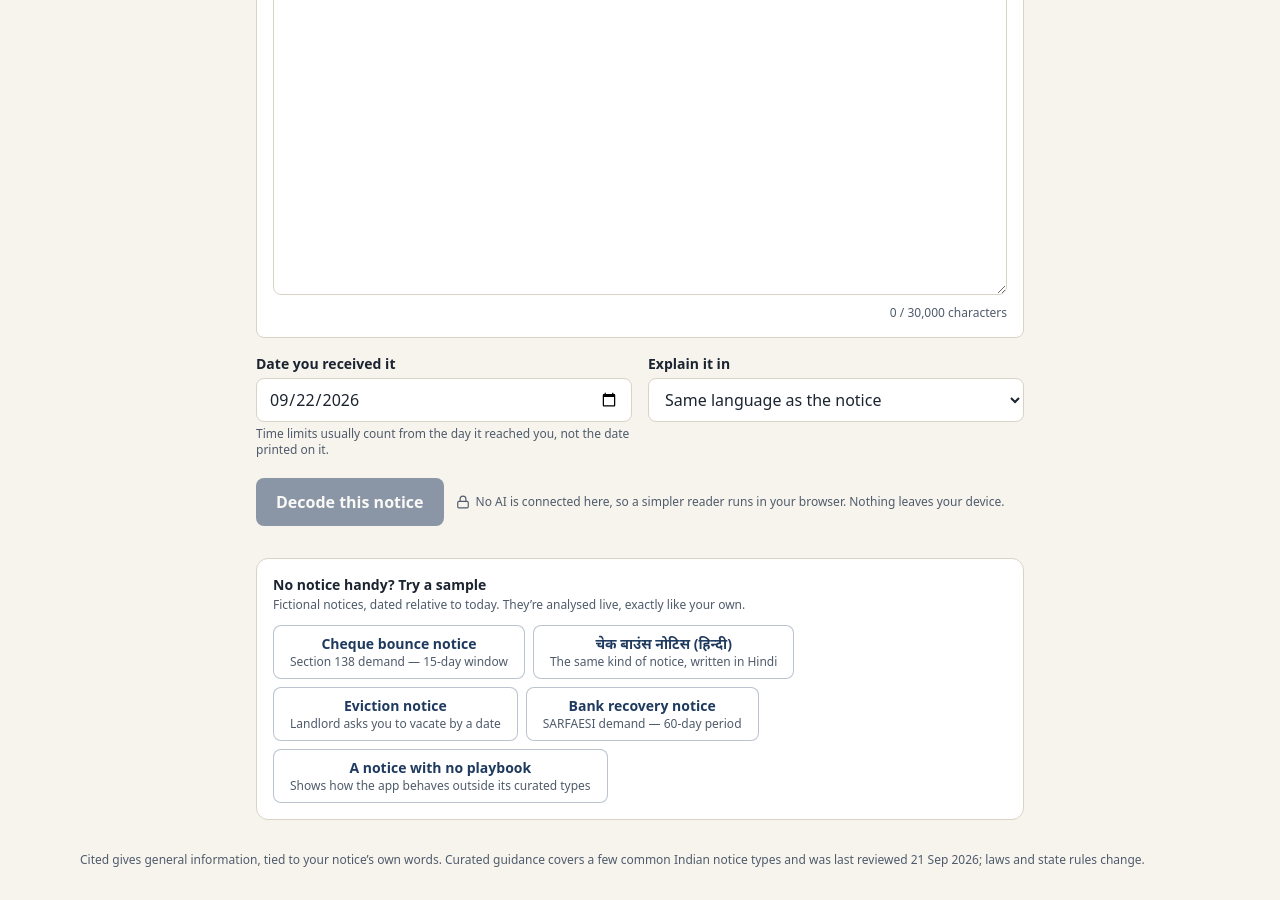
it: intake › fills the form when a sample is chosen, and enables Decode
(page scrolled)
Step 1. Click the button "Cheque bounce notice Section 138 demand — 15-day window" → (399, 652), box left=273, top=625, right=525, bottom=679
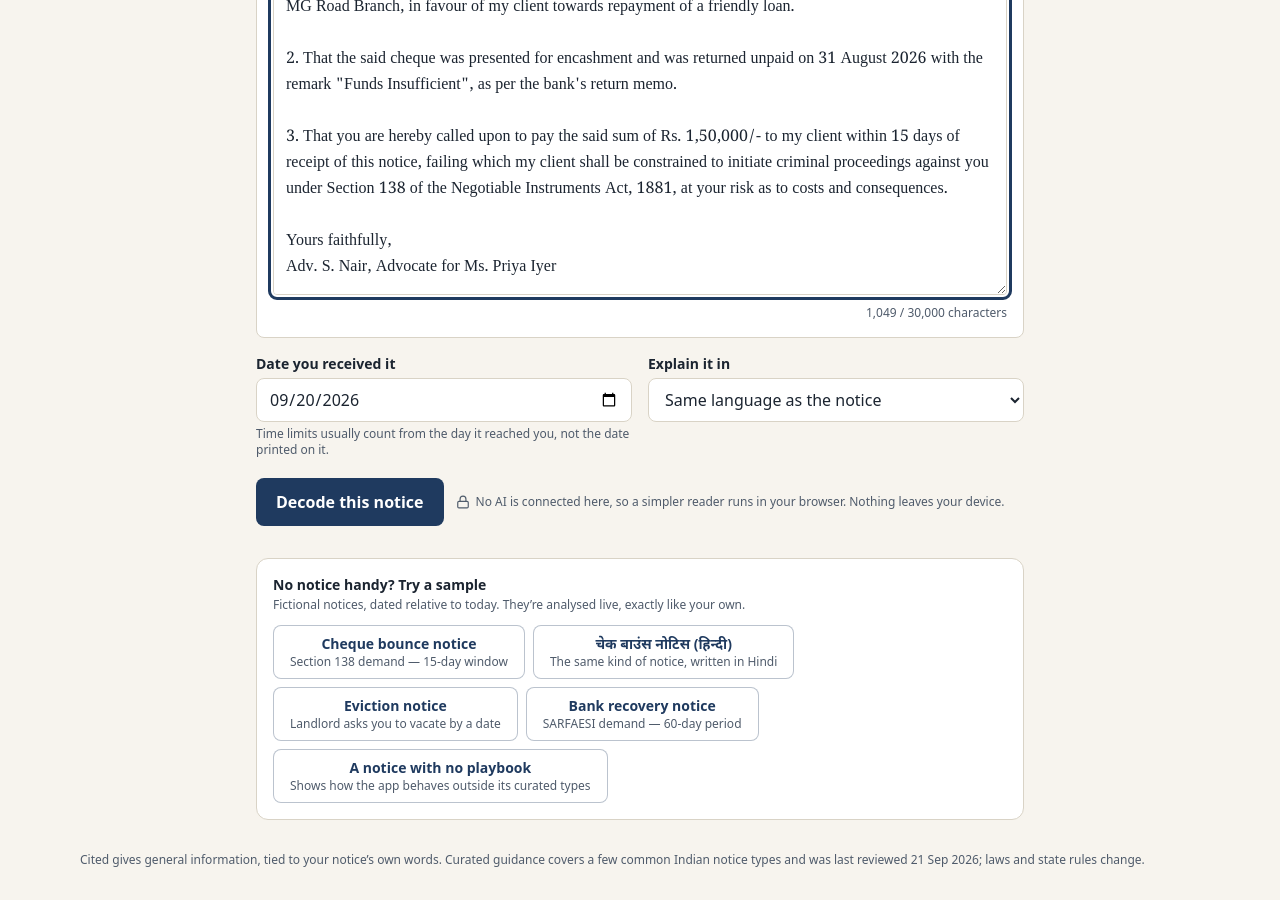
Expected: the button "Decode this notice" is enabled, left=256, top=478, right=444, bottom=526
